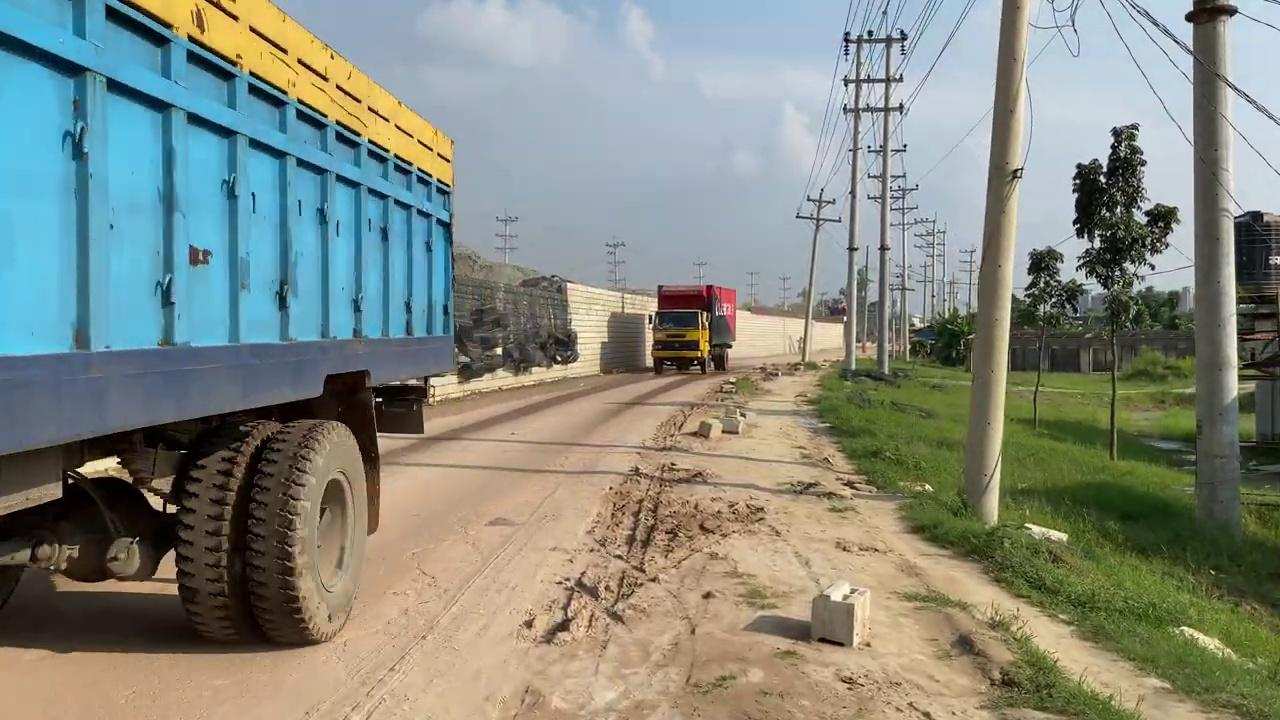Obstacle: (809, 579, 871, 648)
Pole: (960, 0, 1031, 528), (1186, 0, 1243, 545), (868, 28, 905, 374), (841, 33, 864, 371)
Rickshaw: (543, 351, 1235, 720)
Traffic-sign: (1069, 120, 1180, 461), (1020, 244, 1085, 430)
Tree: (0, 0, 458, 646), (647, 283, 736, 374)
